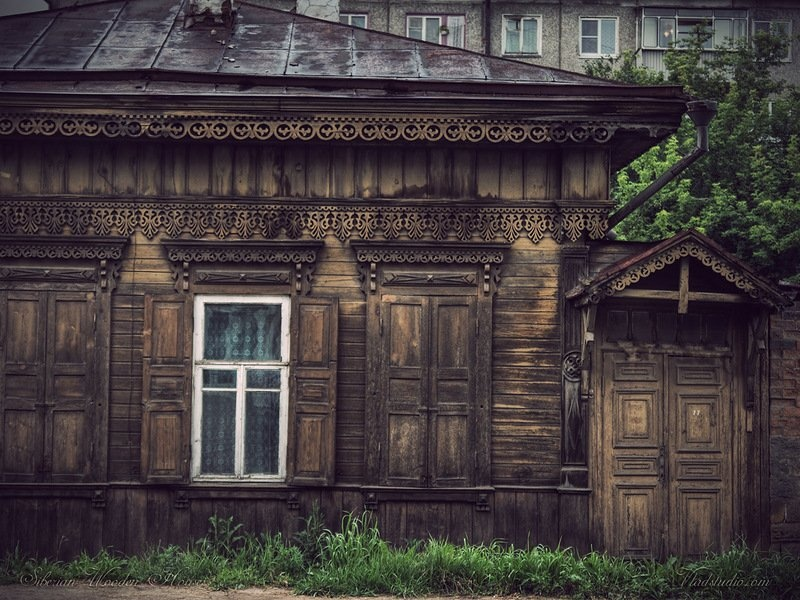window: (182, 289, 294, 483), (577, 14, 620, 61), (504, 14, 541, 60)
